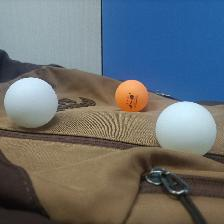WhiteBall: (154, 100, 216, 156), (4, 76, 57, 128)
YellowBall: (114, 78, 147, 111)
